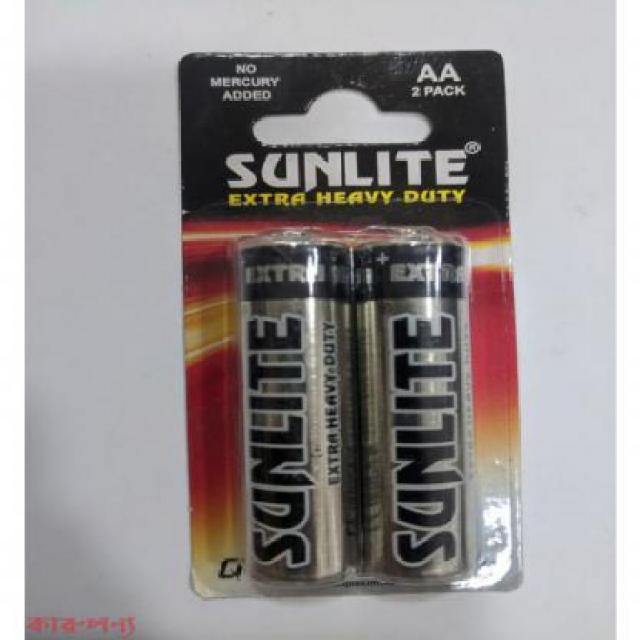AA: (228, 224, 358, 590), (357, 224, 480, 596)
